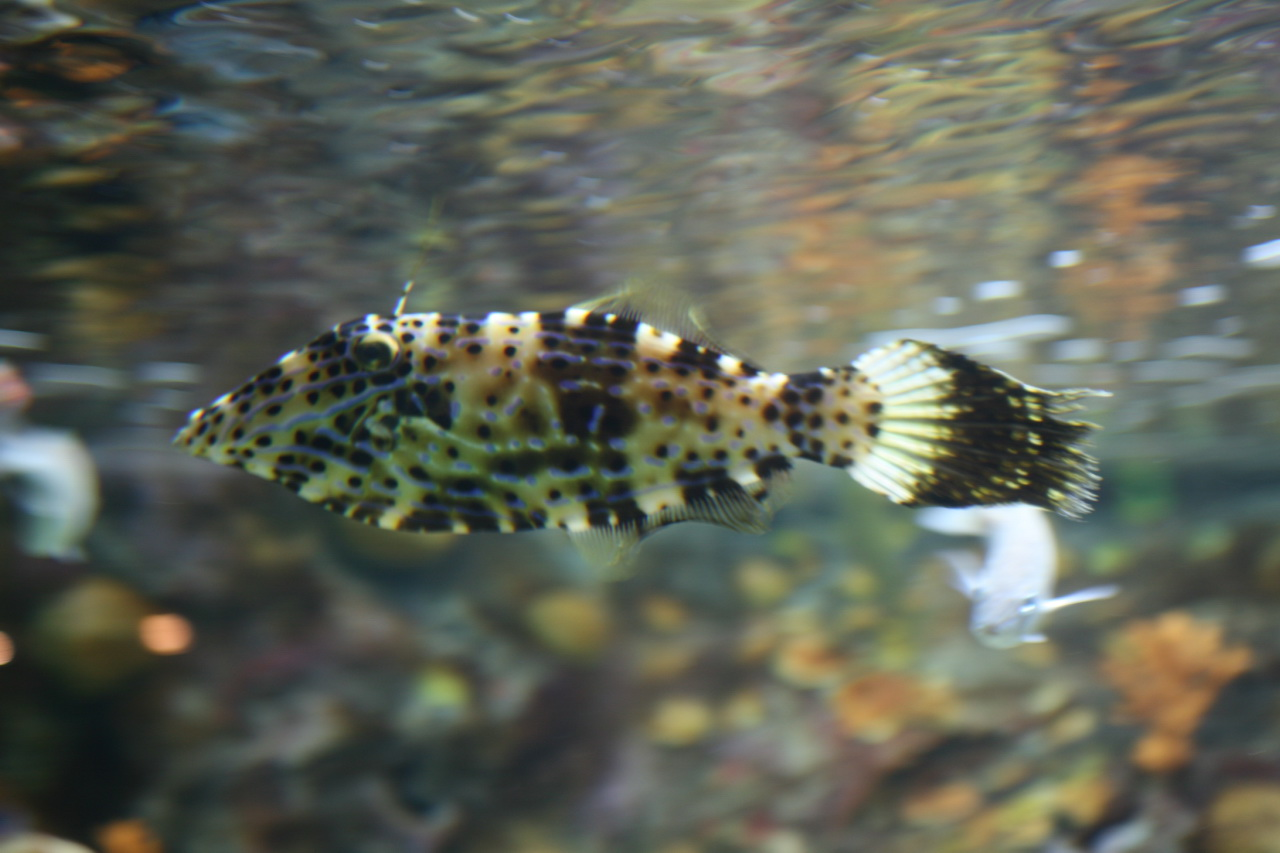Aluterus_scriptus: (163, 285, 1111, 561)
